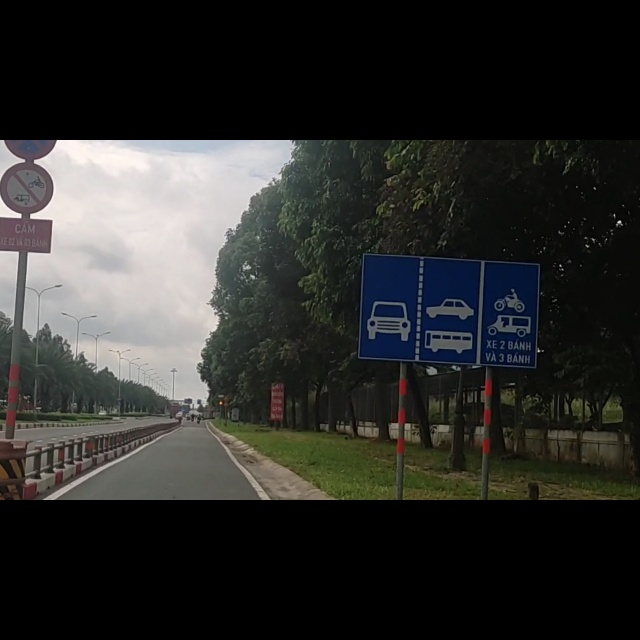bien_cam: (359, 205, 539, 403)
